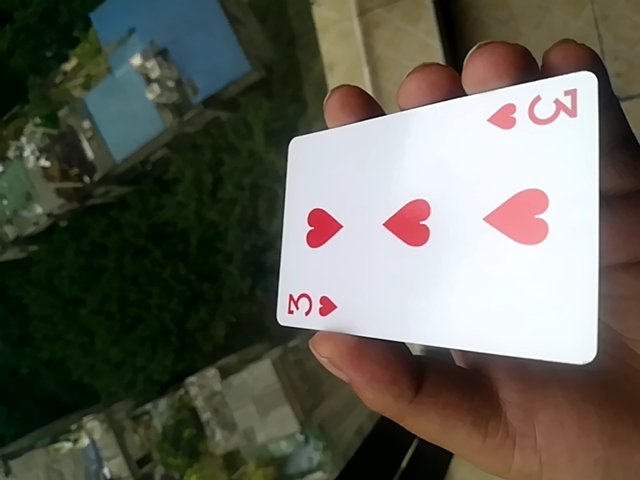hx 3: (270, 69, 602, 372)
